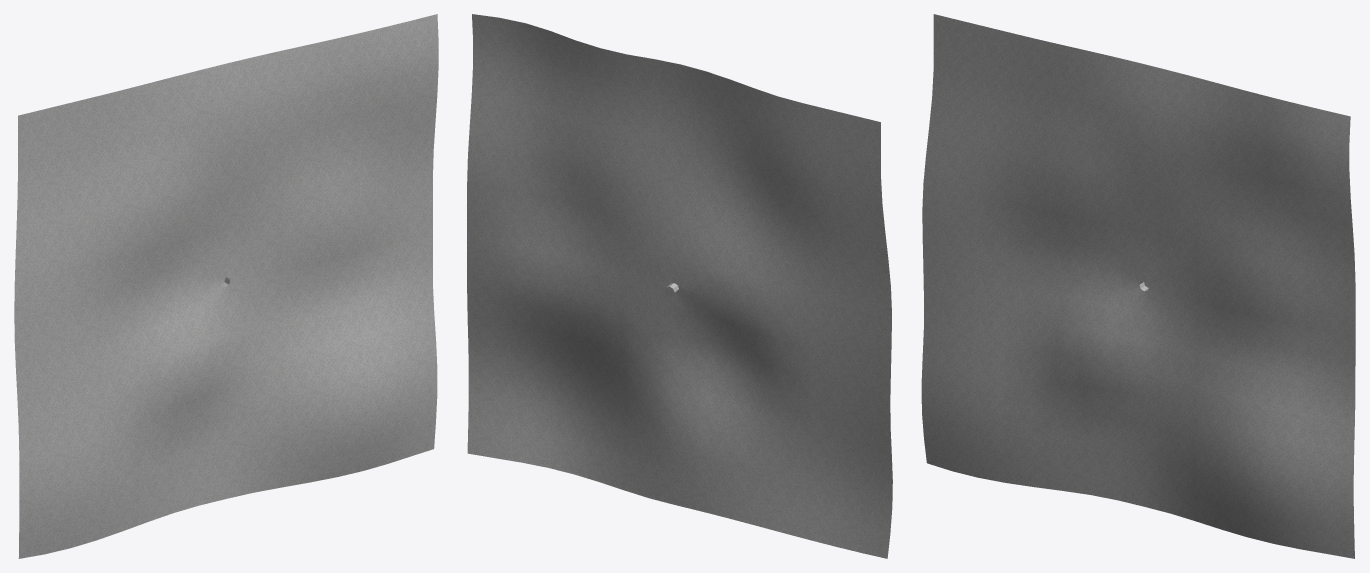
Rendered from golf course REC2.0 placeholder.fbx.
The picture shows the model from 3 angles, left to right: view 1: azimuth 30°, elevation 25°; view 2: azimuth 150°, elevation 25°; view 3: azimuth 330°, elevation 25°; orthographic projection.
Parts seen in each view (by area): view 1: Plane; view 2: Plane; view 3: Plane.
Part boxes in pixels (x1,y1,x2,y2): Plane: (14, 14, 438, 558); Plane: (467, 14, 892, 558); Plane: (921, 14, 1355, 558).
Size of the model in its own units: 20.6 by 20.76 by 1.4.
Materials: 1 (1 with a texture image).
